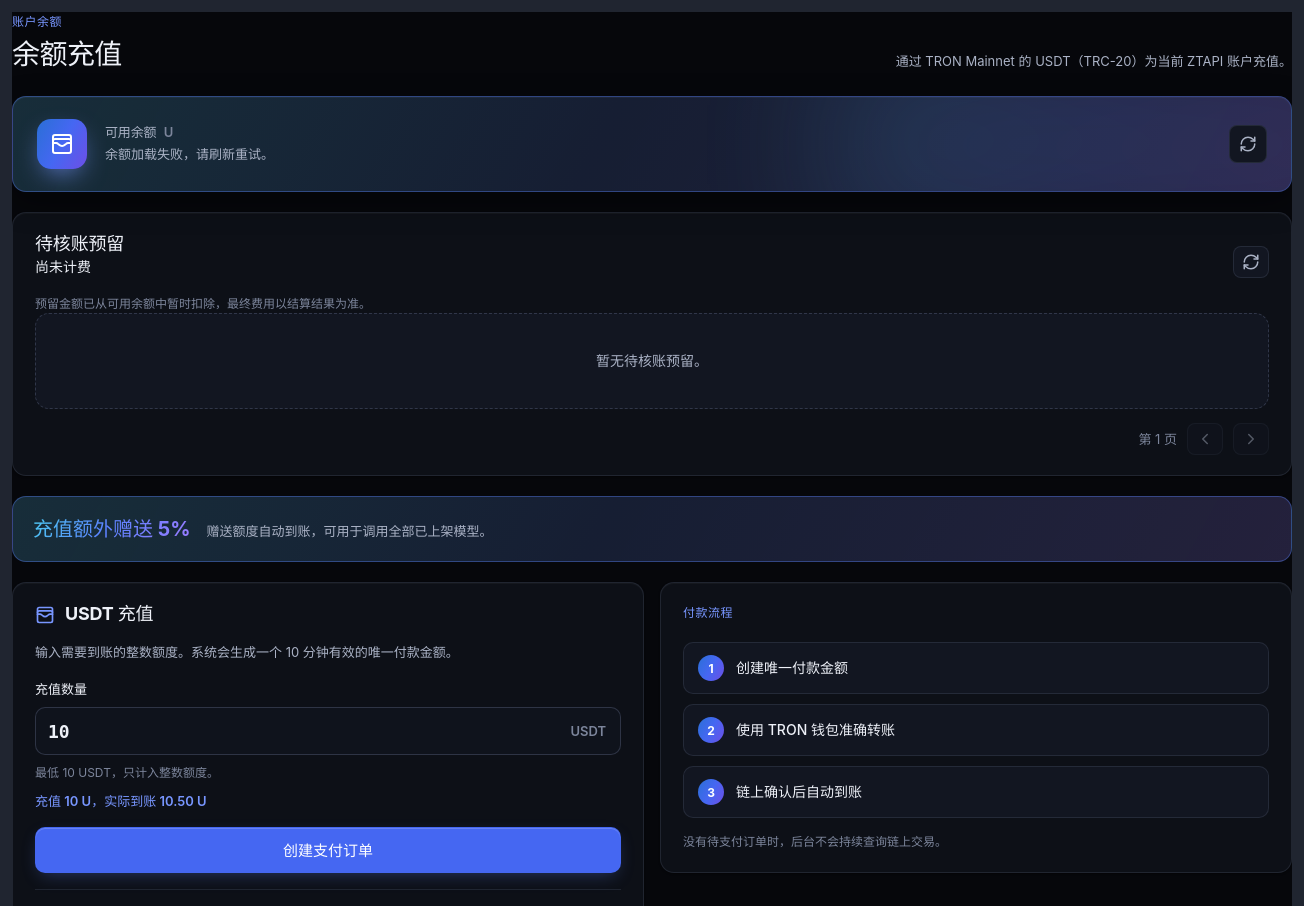
Test: recharge balance visibility › does not invent a zero balance when the response is malformed and supports retry
This screenshot has width=1304, height=906.
Check: the text "余额加载失败，请刷新重试。" is shown, box [105,146,274,162]
Check: the text "0.00 U" is not shown
Click the button named "刷新余额": (1248, 144) [1229,125,1267,163]
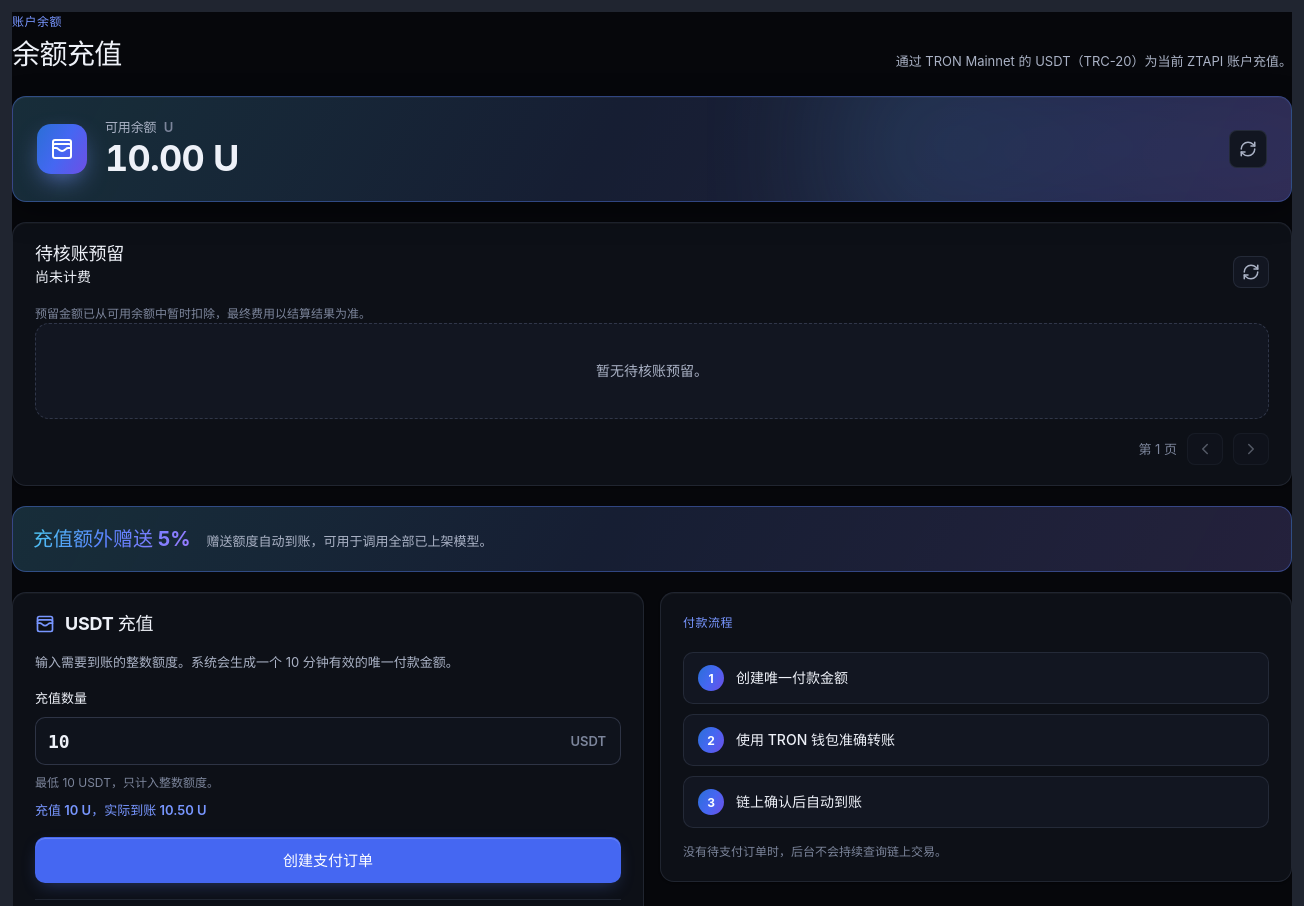
Check: the text "10.00 U" is shown, box [105,136,239,180]
